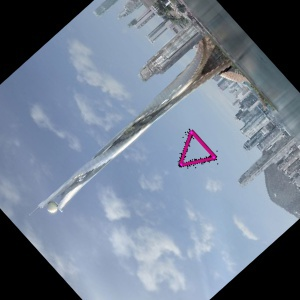triangle: (177, 127, 218, 169)
